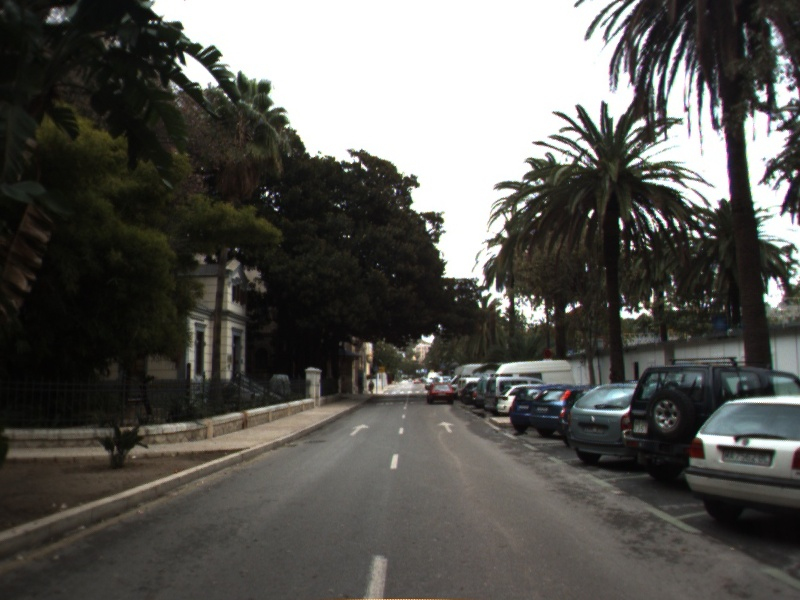STRAIGHT: (347, 421, 372, 438), (435, 419, 457, 435)
